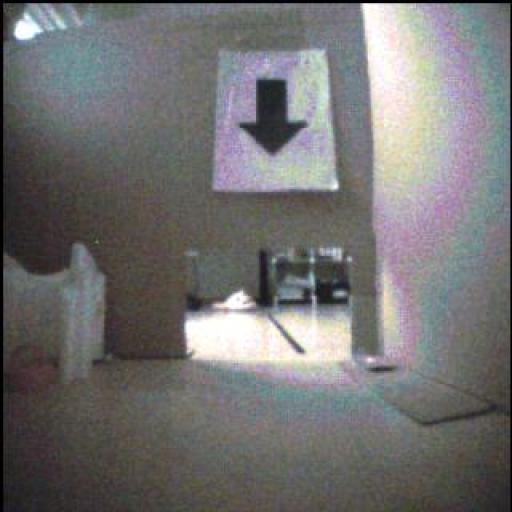arrow: (240, 80, 309, 155)
